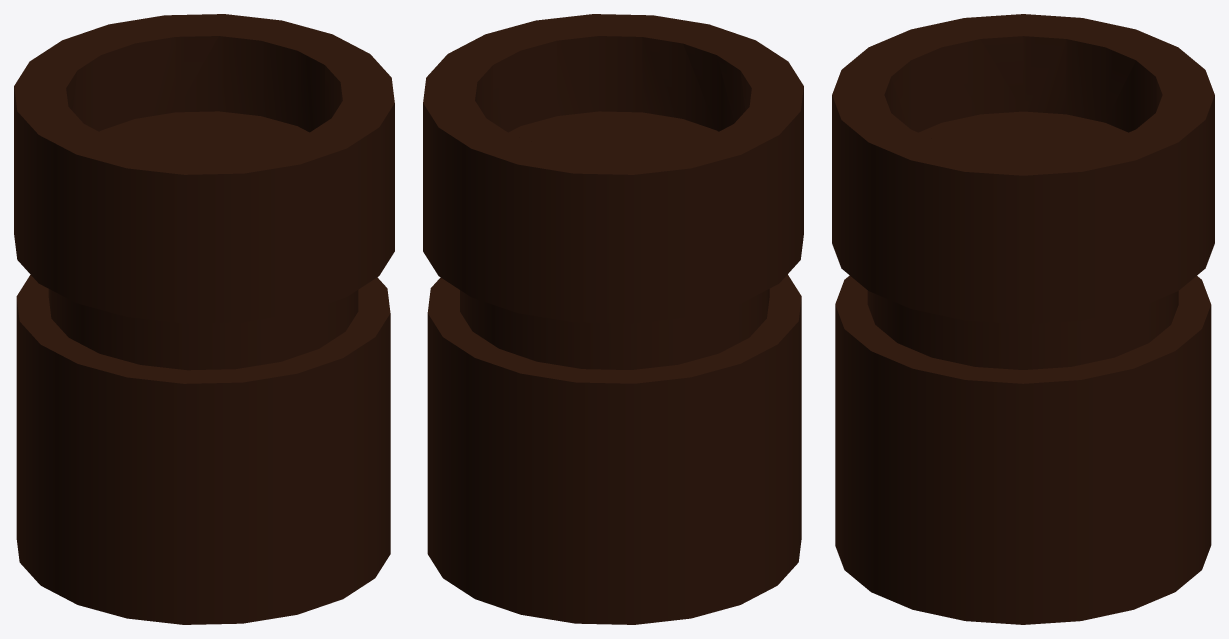
The picture shows the model from 3 angles, left to right: view 1: azimuth 30°, elevation 25°; view 2: azimuth 150°, elevation 25°; view 3: azimuth 270°, elevation 25°; orthographic projection.
Parts seen in each view (by area): view 1: 丸1凹_3, 丸1凹_1, 丸1凹_2; view 2: 丸1凹_3, 丸1凹_1, 丸1凹_2; view 3: 丸1凹_3, 丸1凹_1, 丸1凹_2.
Part boxes in pixels (bbox=[...]): 丸1凹_3: bbox=[14, 14, 394, 323]; 丸1凹_1: bbox=[16, 274, 390, 624]; 丸1凹_2: bbox=[48, 289, 358, 370]; 丸1凹_3: bbox=[423, 14, 803, 323]; 丸1凹_1: bbox=[427, 274, 801, 624]; 丸1凹_2: bbox=[460, 289, 769, 369]; 丸1凹_3: bbox=[832, 14, 1214, 324]; 丸1凹_1: bbox=[835, 275, 1211, 624]; 丸1凹_2: bbox=[867, 290, 1178, 369].
Size of the model in its own units: 0.0261 by 0.034 by 0.0261.
